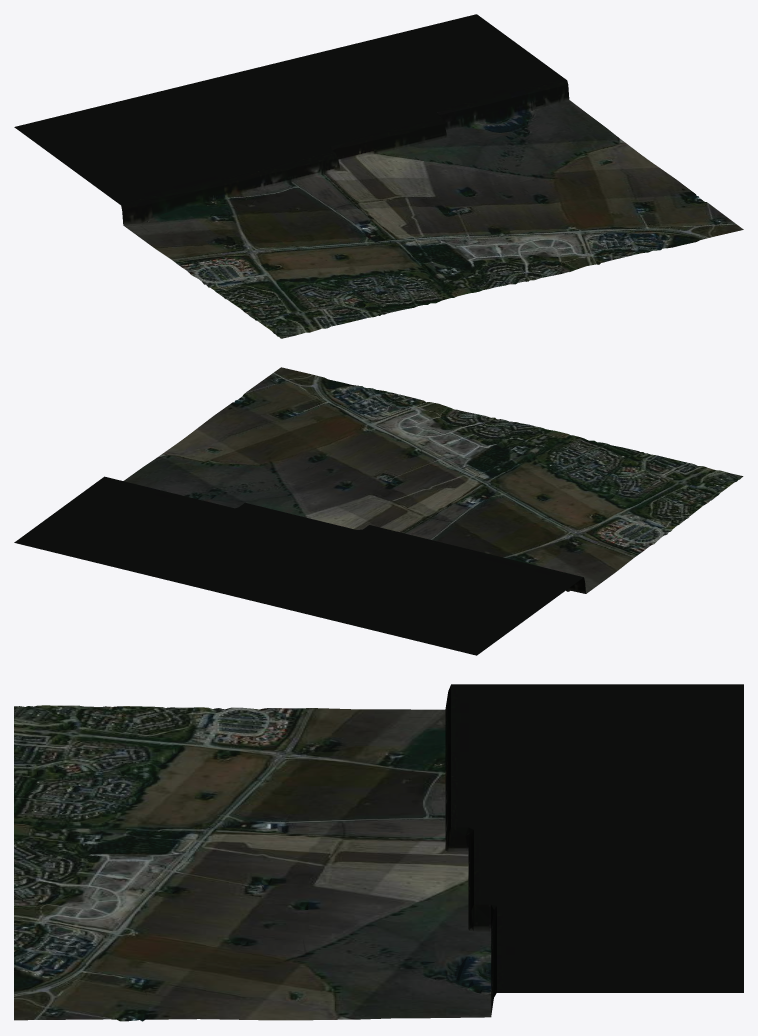
File: map_10_256_433.dae
3 renders of one model, top to bottom at view 1: azimuth 30°, elevation 25°; view 2: azimuth 150°, elevation 25°; view 3: azimuth 270°, elevation 25°, orthographic. The views are drawn at different scales.
Parts seen in each view (by area): view 1: Ter0; view 2: Ter0; view 3: Ter0.
Boxes of the visible parts, box(x1,y1,x2,y2) form: Ter0: box(14, 14, 743, 338); Ter0: box(14, 367, 743, 655); Ter0: box(14, 684, 743, 1021).
Size of the model in its own units: 2044 by 2044 by 97.97.
3 materials, 3 textured.
